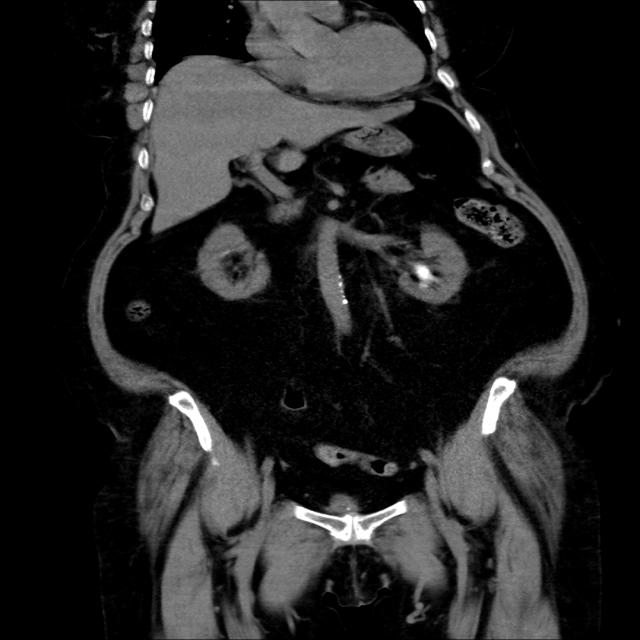kidneystone: (413, 264, 434, 281)
